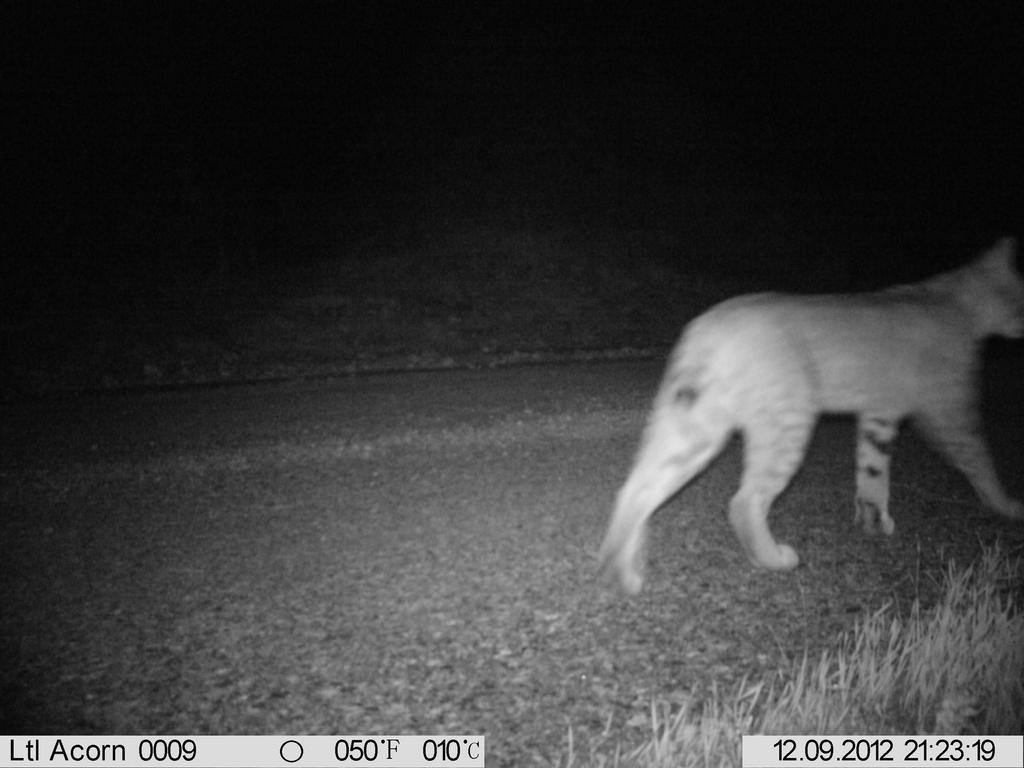bobcat: (583, 228, 1023, 623)
